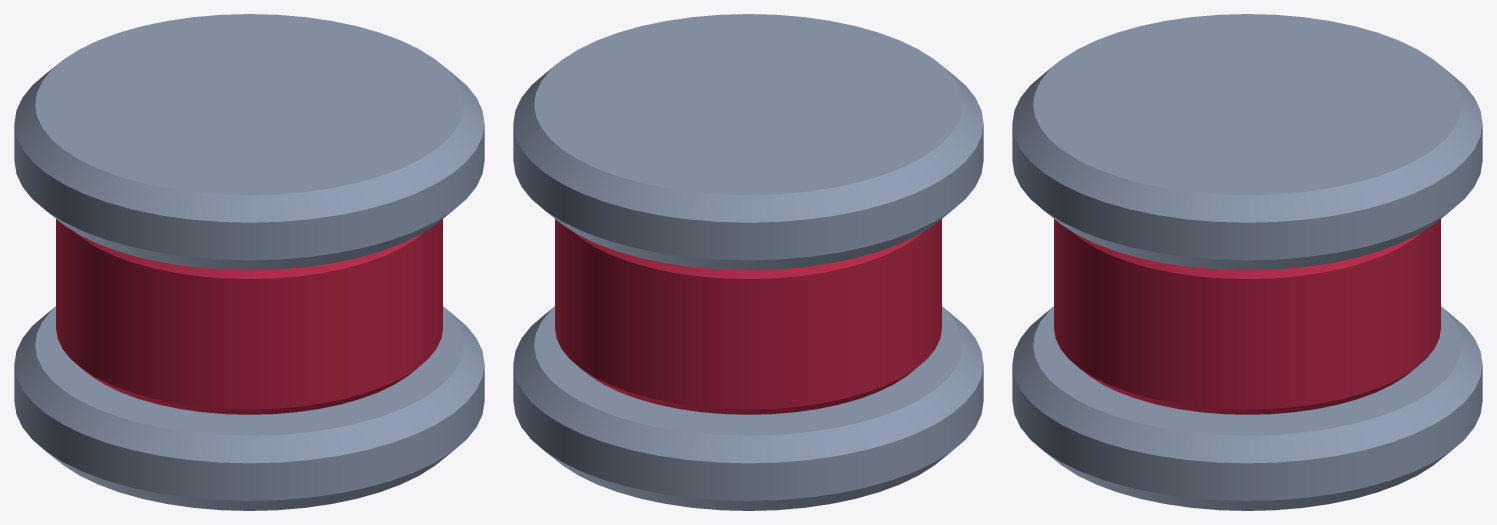
The model's file is integral-cap.glb.
3 views of the same model, side by side, from view 1: azimuth 30°, elevation 25°; view 2: azimuth 150°, elevation 25°; view 3: azimuth 270°, elevation 25° (orthographic).
Visible parts, largest first — view 1: spindle, service_ring; view 2: spindle, service_ring; view 3: spindle, service_ring.
Part boxes in pixels (x1=…): spindle: x1=14, y1=14, x2=484, y2=510; service_ring: x1=56, y1=219, x2=442, y2=414; spindle: x1=513, y1=14, x2=983, y2=510; service_ring: x1=555, y1=219, x2=941, y2=414; spindle: x1=1012, y1=14, x2=1482, y2=510; service_ring: x1=1054, y1=219, x2=1440, y2=414.
Size of the model in its own units: 34 by 25.2 by 34.
